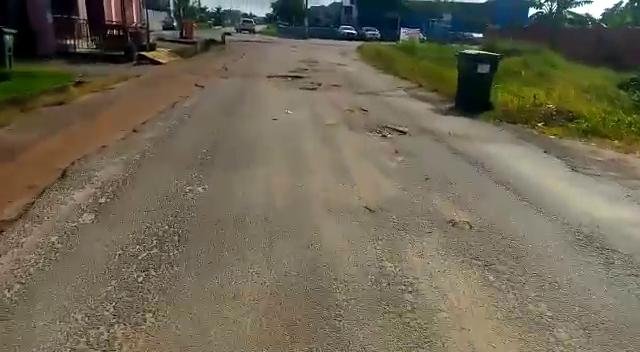pothole: (363, 124, 411, 139), (266, 72, 310, 81), (296, 86, 319, 92)
